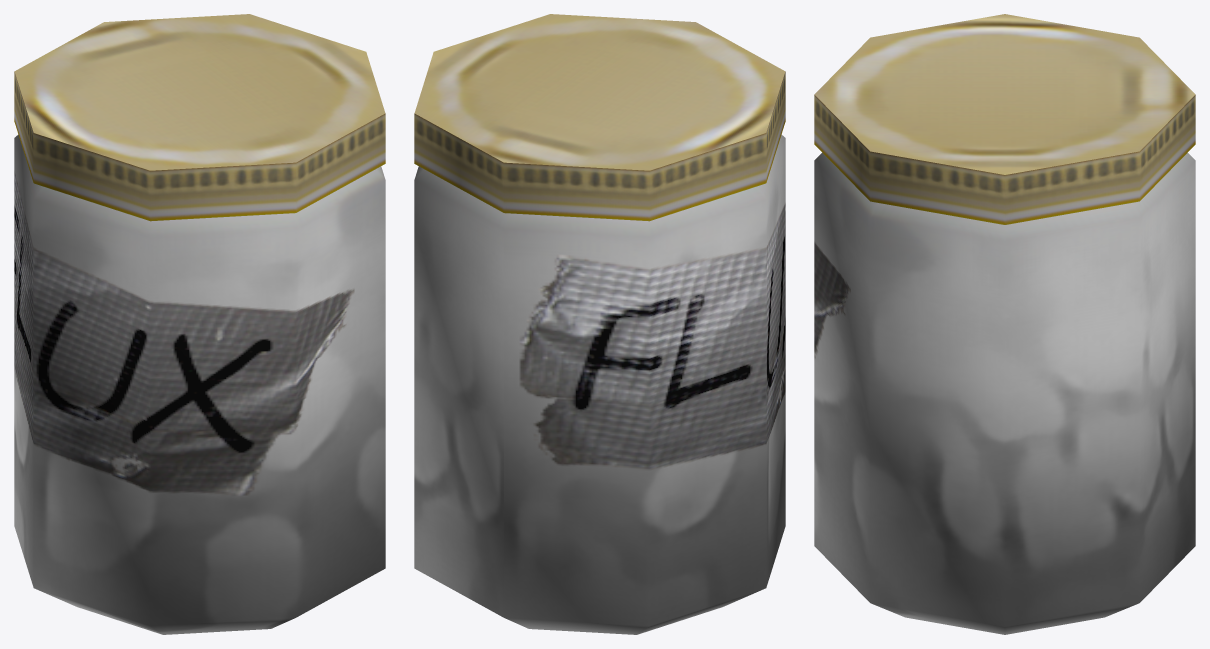
File: FluxPowder_Mesh.FBX
3 renders of one model, left to right at view 1: azimuth 30°, elevation 25°; view 2: azimuth 150°, elevation 25°; view 3: azimuth 270°, elevation 25°, orthographic.
Parts seen in each view (by area): view 1: JarFood; view 2: JarFood; view 3: JarFood.
Part boxes in pixels (bbox=[...]): JarFood: bbox=[14, 14, 385, 634]; JarFood: bbox=[414, 14, 785, 634]; JarFood: bbox=[814, 14, 1195, 634].
Bounding box in the file's own units: 17.46 × 24.3 × 17.46.
